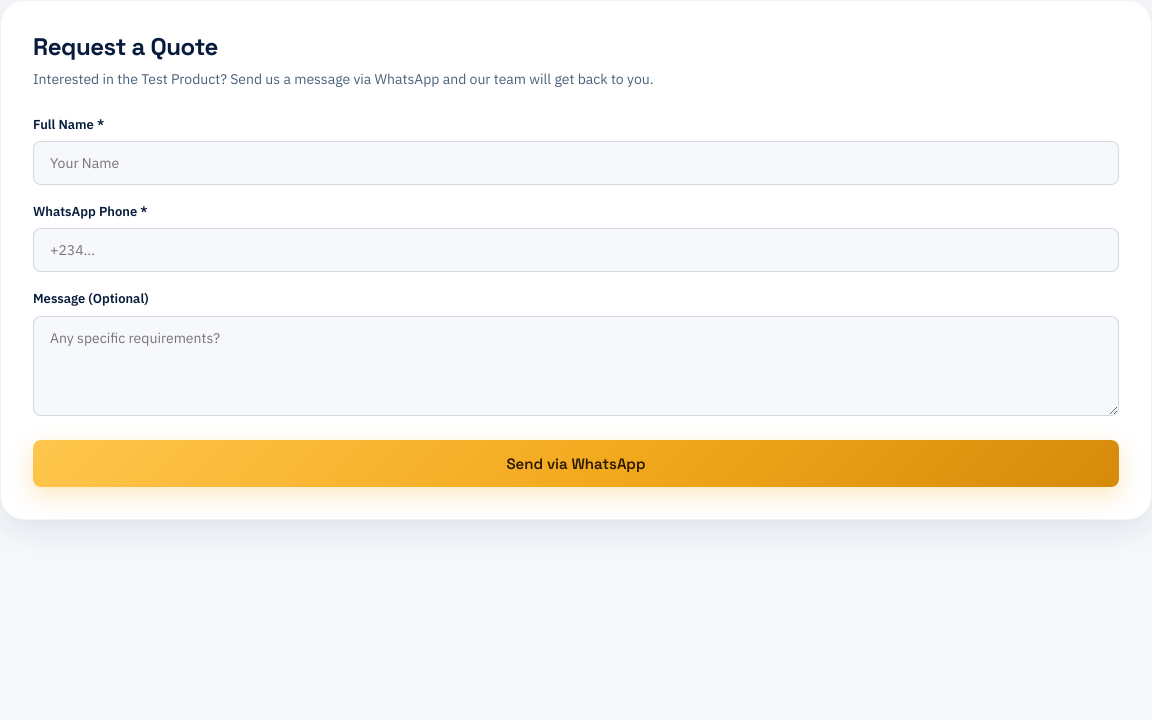
Test: LeadCaptureForm › constructs WhatsApp URL and opens it on valid submission (AC-4)
Type "John Doe" into the field labelled "Full Name *" at x=576, y=163, box [33,141,1119,185]
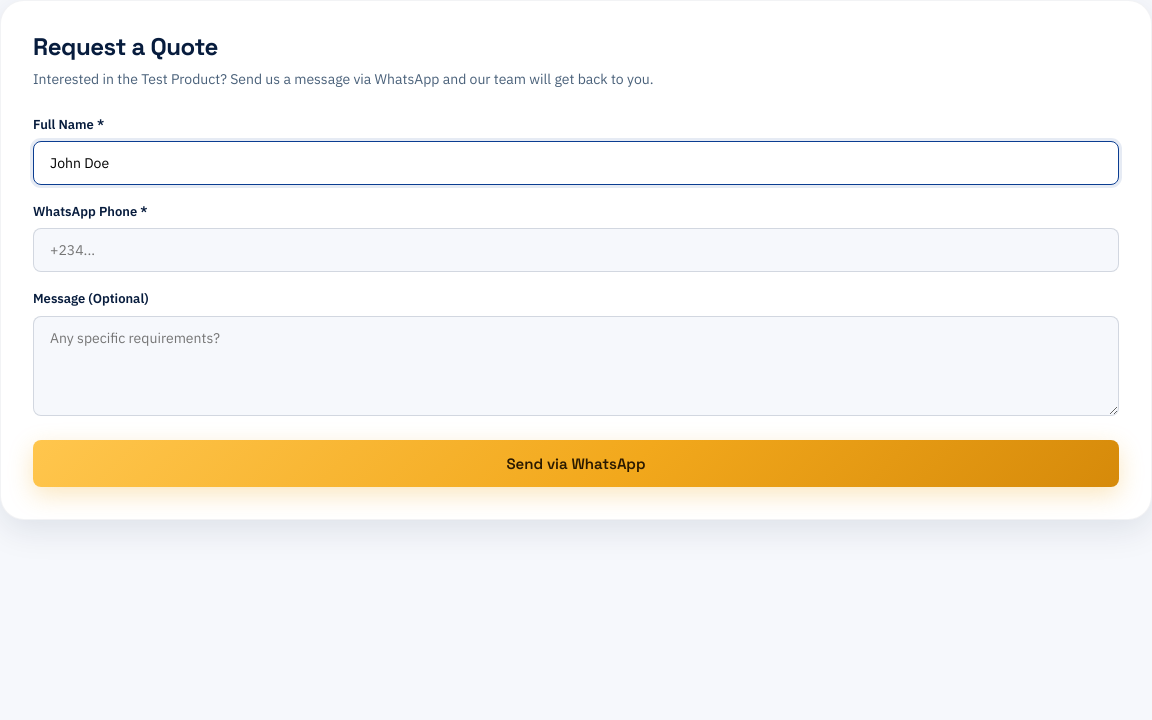
Type "1234567890" into the field labelled "WhatsApp Phone *" at x=576, y=250, box [33,228,1119,272]
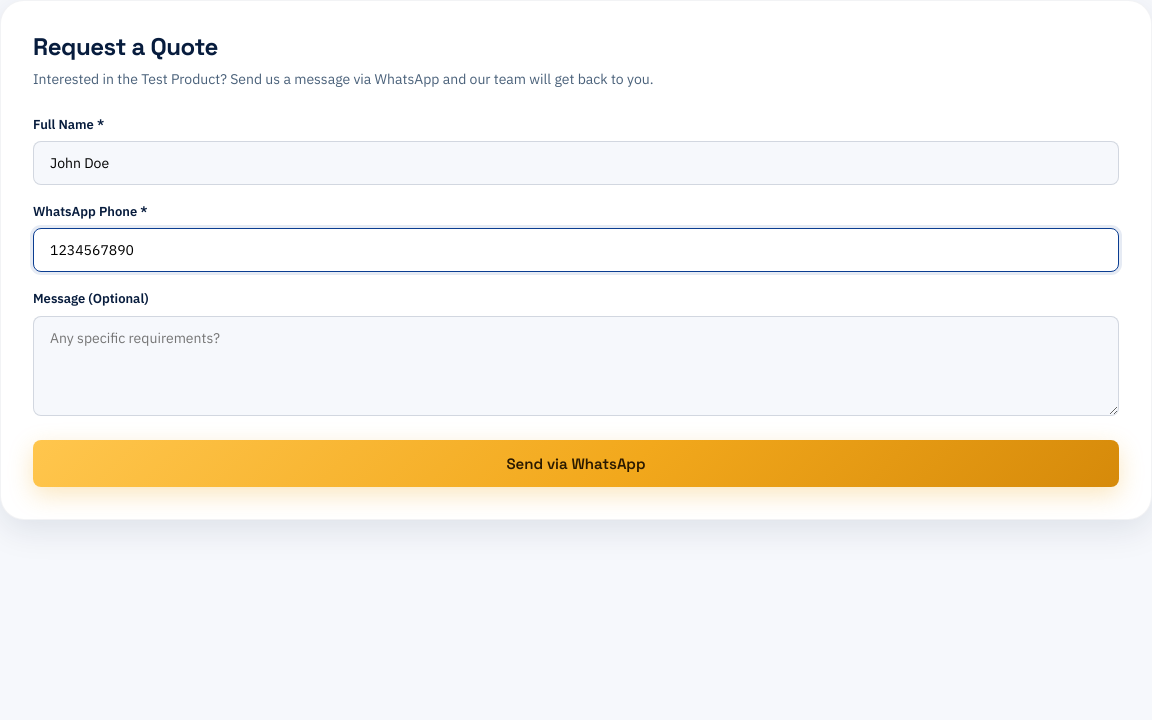
Click the button "Send via WhatsApp" at x=576, y=463, box [33,440,1119,487]
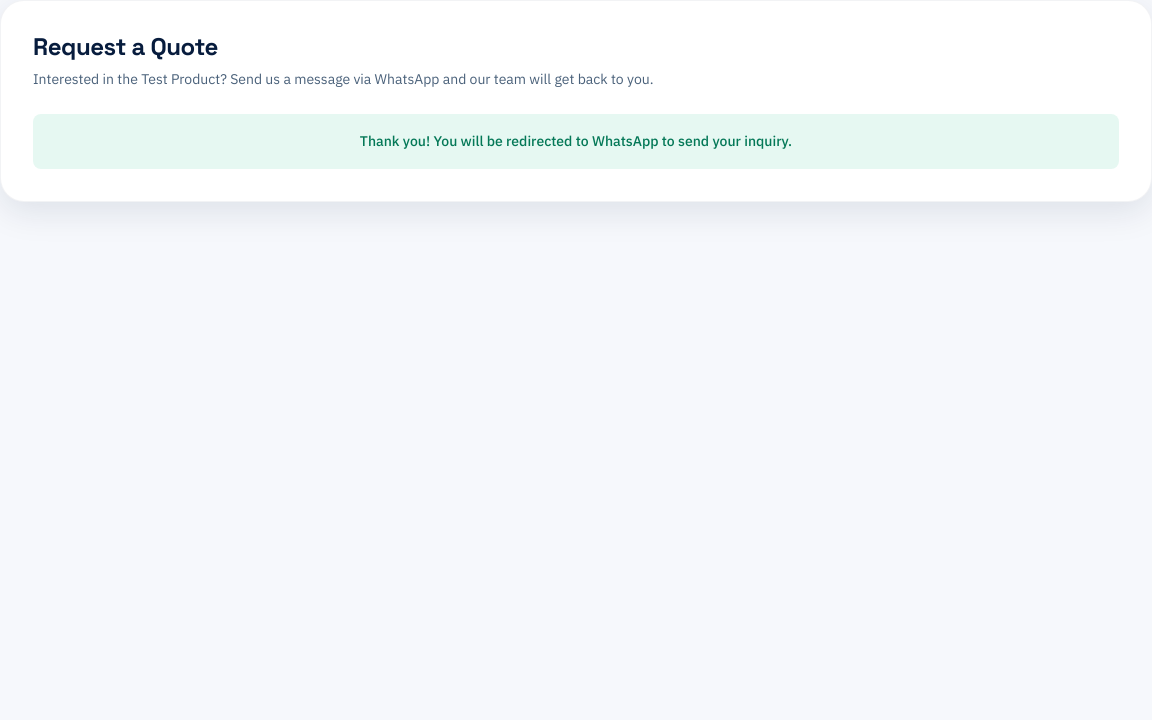
Expected: the text "Thank you! You will be redirected" is shown, [360,132,792,150]
